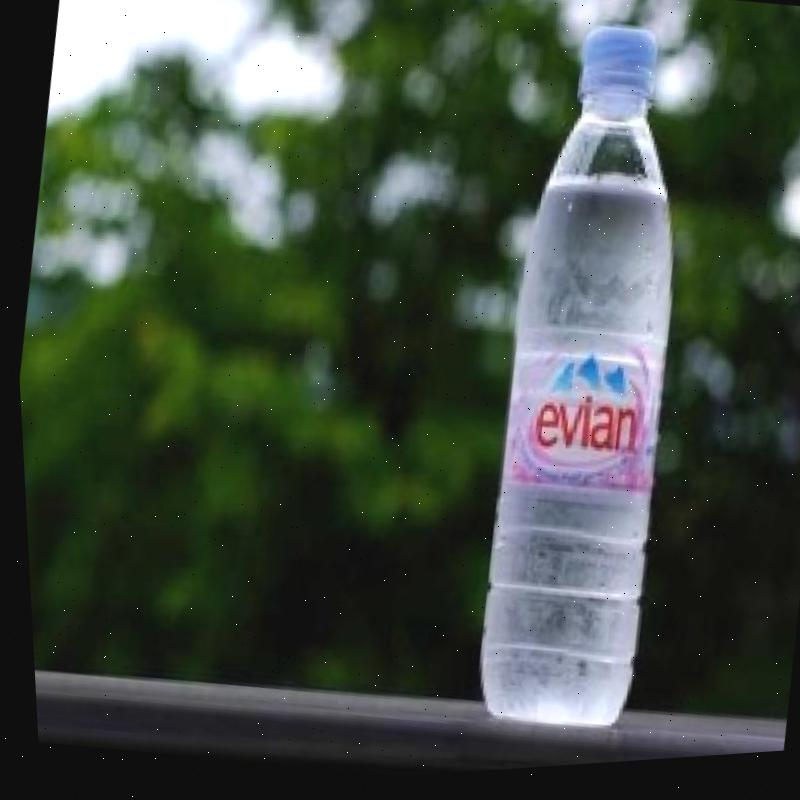botella: (438, 18, 730, 753)
